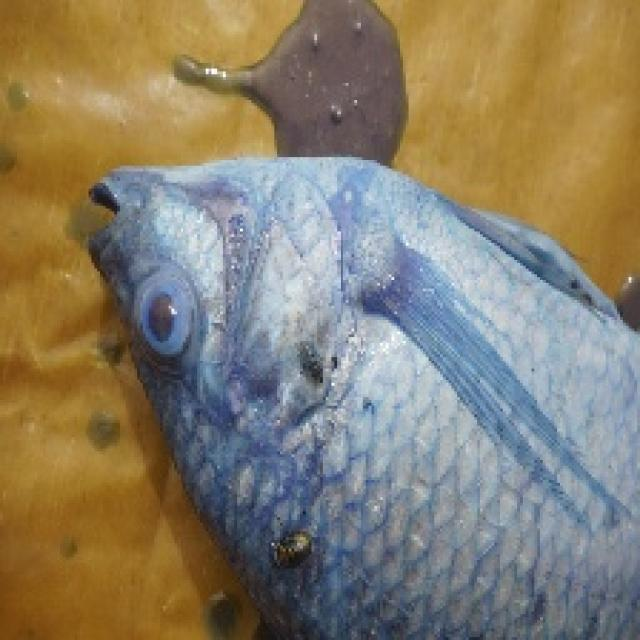Non-Fresh: (50, 142, 640, 636), (129, 260, 222, 383)
